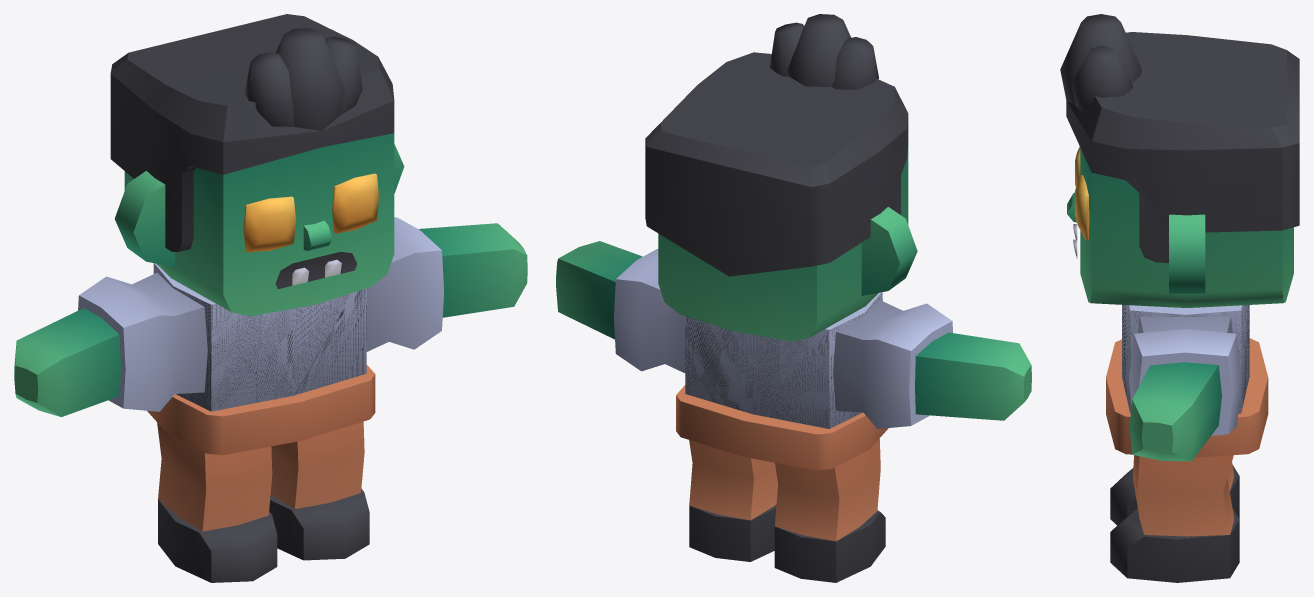
Rendered from cc0-zombie-lod0.glb.
3 views of the same model, side by side, from view 1: azimuth 30°, elevation 25°; view 2: azimuth 150°, elevation 25°; view 3: azimuth 270°, elevation 25° (orthographic). The views are drawn at different scales.
Visible parts, largest first — view 1: part_6, part_3, part_5, part_2, part_4, part_1; view 2: part_6, part_3, part_5, part_2, part_4, part_1; view 3: part_6, part_4, part_1, part_3, part_2.
Boxes of the visible parts, x1,y1,x2,y2 form: part_6: [110, 14, 404, 316]; part_3: [147, 263, 375, 455]; part_5: [14, 272, 207, 416]; part_2: [157, 422, 277, 582]; part_4: [366, 217, 527, 351]; part_1: [269, 421, 369, 560]; part_6: [645, 14, 917, 341]; part_3: [676, 292, 888, 470]; part_5: [833, 300, 1031, 428]; part_2: [774, 439, 885, 582]; part_4: [556, 241, 685, 372]; part_1: [689, 440, 777, 561]; part_6: [1060, 14, 1299, 307]; part_4: [1129, 316, 1241, 461]; part_1: [1110, 455, 1239, 582]; part_3: [1106, 305, 1268, 457]; part_2: [1110, 462, 1239, 525].
Bounding box in the file's own units: 0.8114 × 0.8251 × 0.3455.
Materials: 1 (1 with a texture image).
